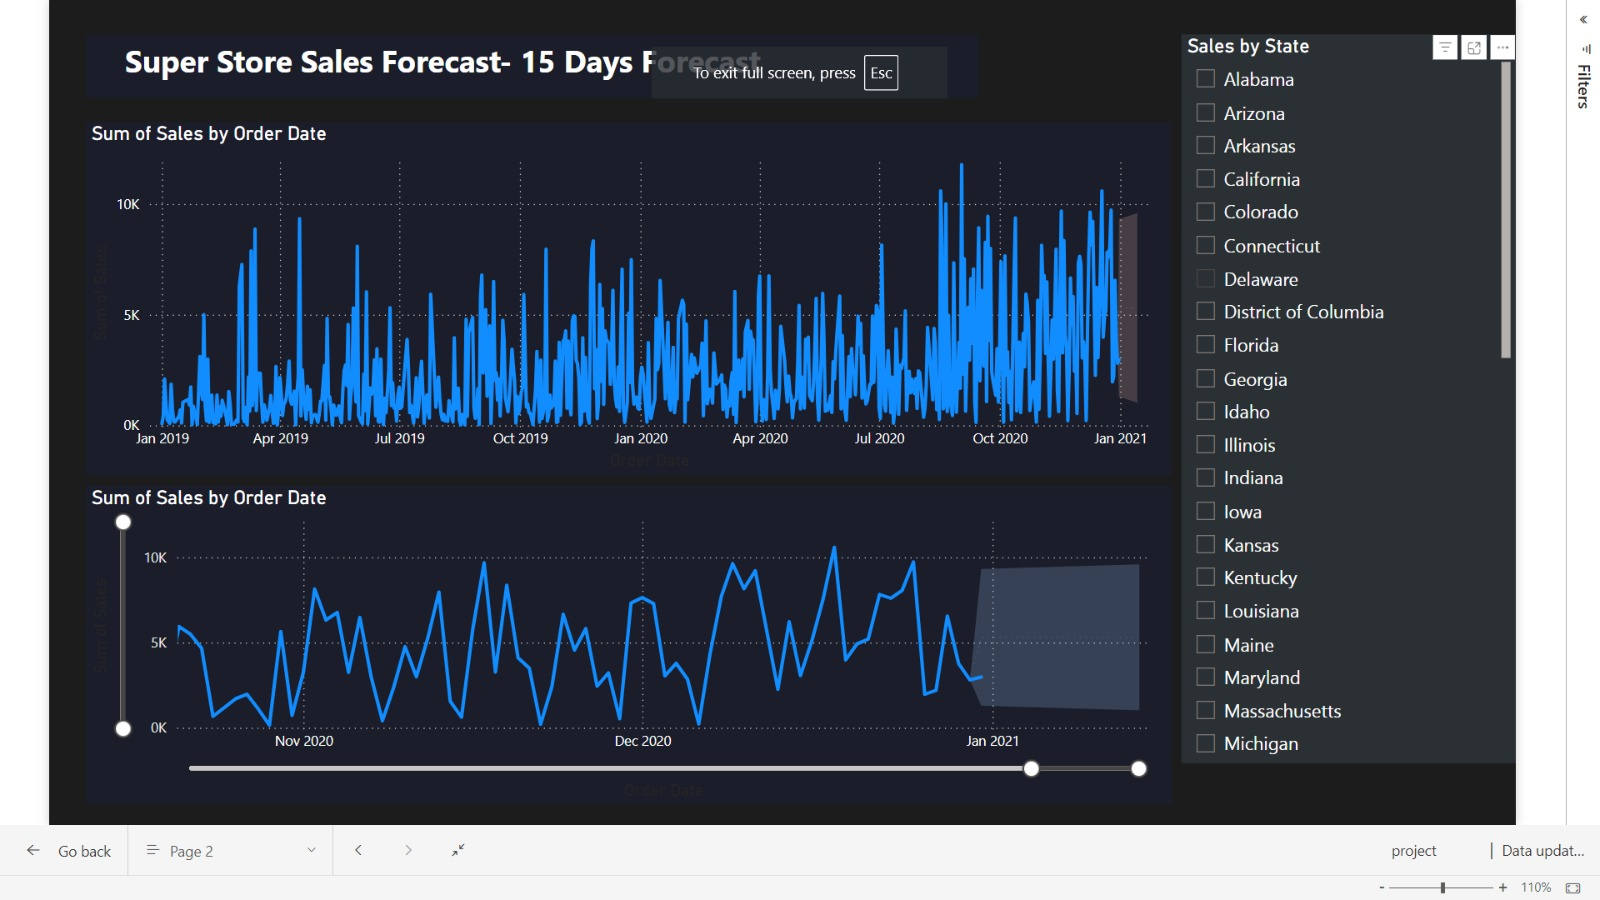

This screenshot's page, from the dashboard's own definition file:
{"tool":"powerbi","page":{"name":"Page 2","canvas":[1280,720],"ordinal":1},"visuals":[{"type":"lineChart","fields":{"Y":["Sum(Sheet1.Sales)"],"Category":["Sheet1.Order Date"]},"box":[31.4,106.2,947.1,308.8],"z":0},{"type":"lineChart","fields":{"Y":["Sum(Sheet1.Sales)"],"Category":["Sheet1.Order Date"]},"box":[31.4,423.5,948.3,278.7],"z":1000},{"type":"slicer","title":"Sales by State","fields":{"Values":["Sheet1.State"]},"box":[988.1,30.2,292,635.8],"z":2000},{"type":"textbox","box":[31.4,30.2,779.4,55.5],"z":2002}]}

Visuals, with their boxes on the page's 1280x720 design canvas (x1, y1, x2, y2). These are canvas units, not pixel positions in the 1600x900 screenshot, which may show the page scaled, cropped or inside an application window:
lineChart - Sum(Sheet1.Sales) x Sheet1.Order Date: (31, 106, 978, 415)
lineChart - Sum(Sheet1.Sales) x Sheet1.Order Date: (31, 424, 980, 702)
"Sales by State" slicer: (988, 30, 1280, 666)
textbox: (31, 30, 811, 86)
